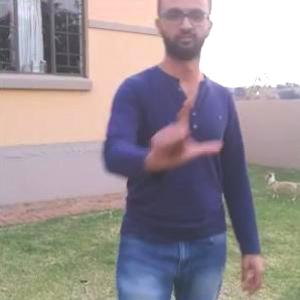land_hand: (143, 89, 223, 172)
